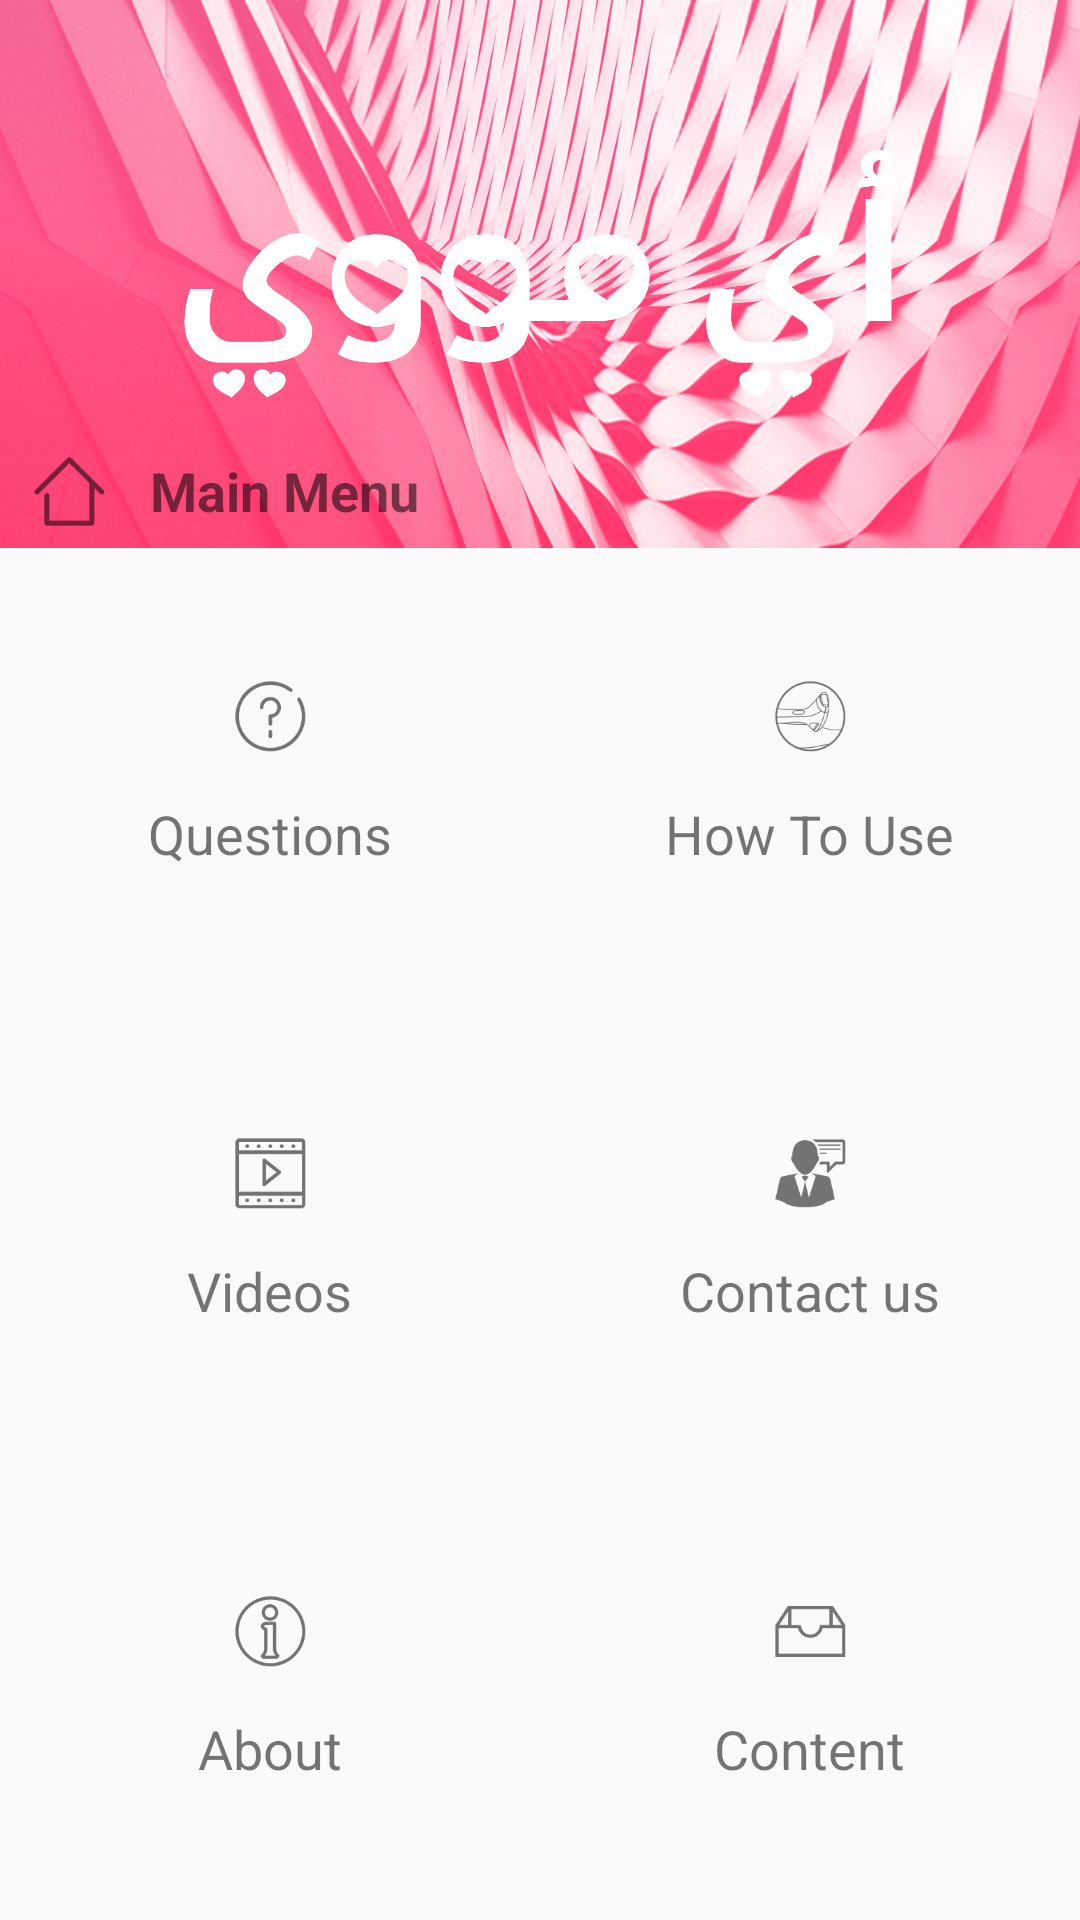

Icon bounding boxes for this 1080×1920 phone screenshot, format (x1, y1, x2, y2):
home: (34, 457, 105, 526)
